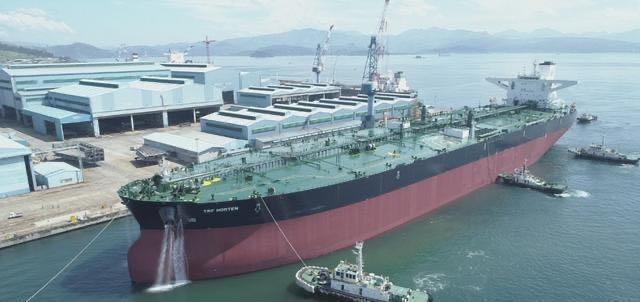Cargoship: (120, 38, 583, 285)
otherboat: (290, 240, 437, 302), (492, 158, 570, 195), (560, 139, 639, 169), (573, 113, 598, 125)
